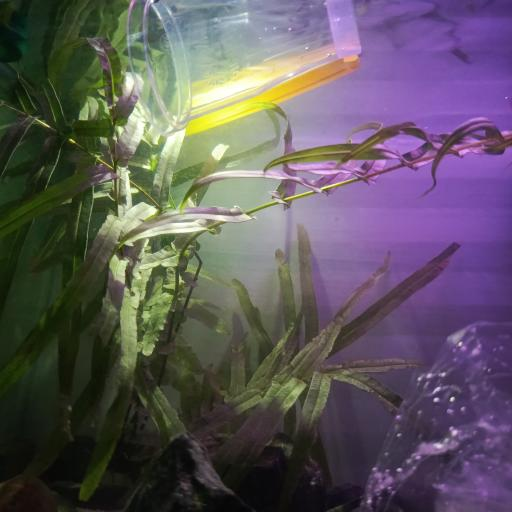plastic_bag: (365, 317, 512, 511)
plastic_cup: (123, 0, 364, 135)
plastic_straw: (188, 54, 362, 136)
